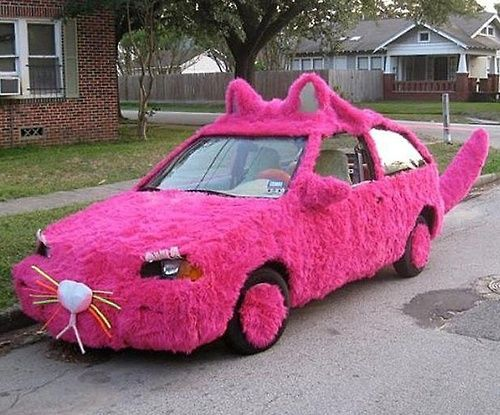car: (12, 110, 448, 361)
